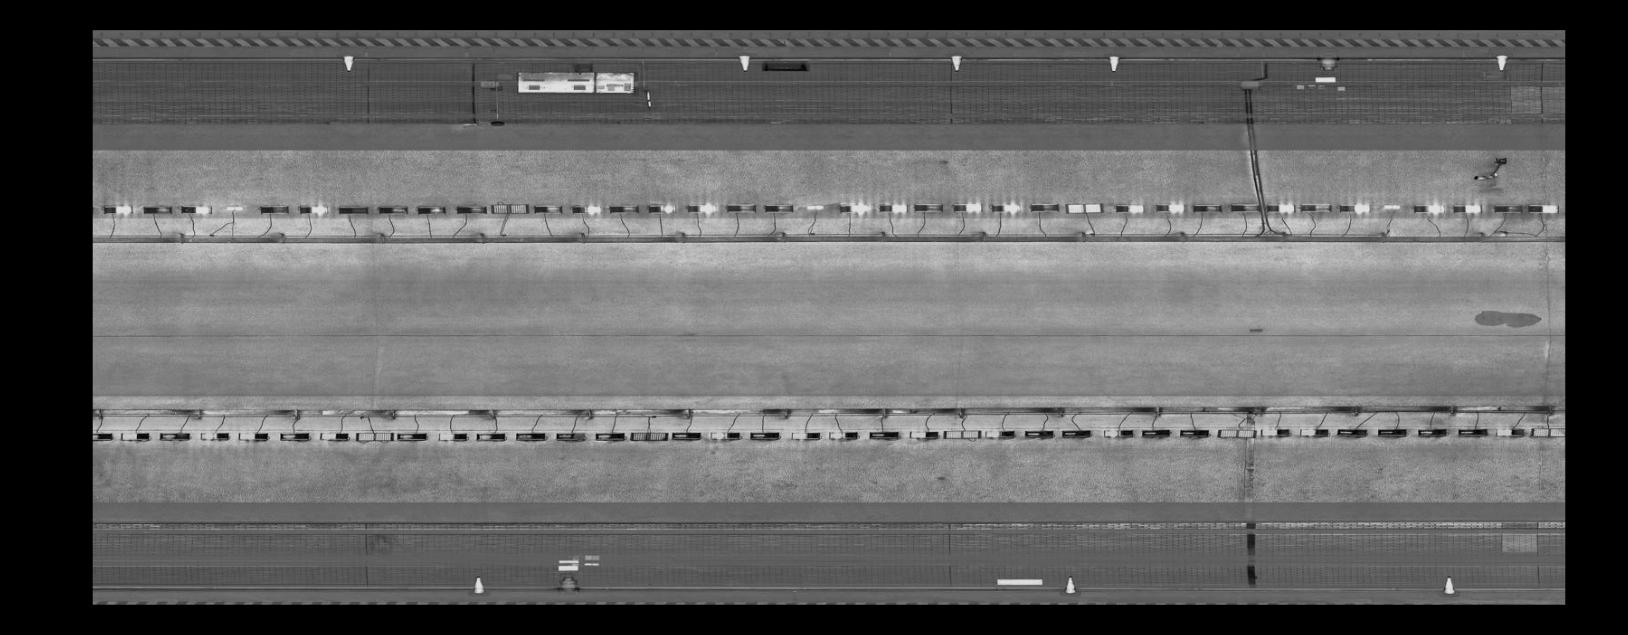light: (1214, 424, 1259, 440), (1062, 199, 1105, 216), (627, 427, 672, 442), (488, 200, 530, 216), (354, 427, 396, 443), (836, 198, 872, 216), (1113, 199, 1150, 216), (1152, 199, 1189, 216), (315, 427, 353, 443), (1528, 423, 1564, 440), (941, 427, 983, 441), (987, 198, 1022, 215), (513, 427, 548, 443), (436, 427, 471, 443), (156, 429, 193, 443), (101, 201, 135, 217), (553, 429, 588, 444), (1411, 201, 1447, 216), (1261, 198, 1298, 213), (394, 429, 430, 443), (235, 427, 271, 442), (115, 429, 152, 443), (452, 202, 490, 216), (177, 201, 215, 215), (1492, 424, 1530, 438), (1056, 426, 1094, 440), (706, 427, 744, 441), (911, 199, 946, 214), (1298, 199, 1335, 213), (412, 202, 450, 216), (1137, 426, 1174, 440), (1098, 426, 1136, 440), (1027, 199, 1061, 214), (876, 200, 911, 215), (374, 202, 410, 216), (296, 202, 332, 216), (1175, 426, 1212, 440), (904, 426, 941, 440), (866, 427, 902, 441), (278, 429, 311, 443), (1454, 425, 1492, 438), (1373, 425, 1411, 438), (335, 202, 371, 216), (257, 202, 293, 216), (1334, 425, 1369, 439), (1296, 425, 1331, 439), (825, 427, 861, 441), (474, 429, 507, 443), (684, 201, 718, 215), (569, 202, 603, 216), (531, 201, 565, 215), (197, 429, 232, 442), (1335, 200, 1372, 213), (788, 429, 824, 441), (668, 429, 704, 441), (139, 203, 174, 216), (1021, 427, 1056, 440), (982, 427, 1017, 440), (747, 429, 782, 441), (590, 430, 628, 441), (951, 200, 983, 214), (762, 201, 796, 214), (724, 201, 758, 214), (1415, 425, 1449, 438), (1258, 425, 1293, 438), (1491, 202, 1527, 214), (1189, 201, 1225, 213), (1525, 202, 1561, 214), (1449, 202, 1485, 214), (646, 201, 678, 214), (606, 202, 640, 214), (1226, 202, 1261, 213), (92, 427, 114, 440), (222, 203, 246, 213), (803, 203, 826, 211), (1380, 201, 1405, 208)
